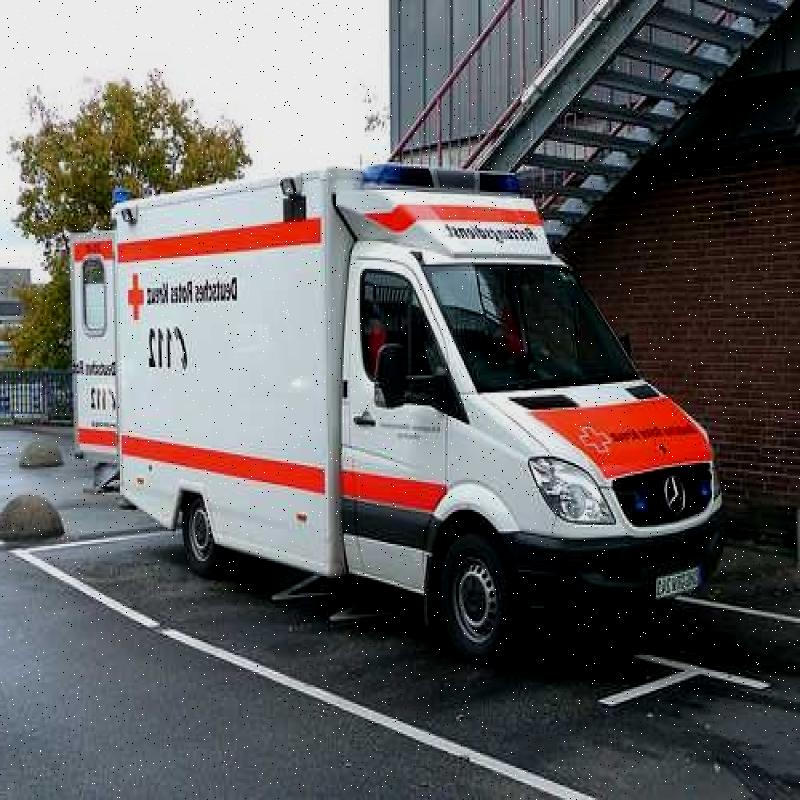AmbulanceSiren: (343, 152, 528, 218)
